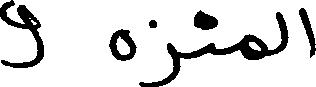X: (0, 0, 42, 72), (143, 15, 177, 86), (109, 24, 135, 65), (301, 3, 315, 62), (244, 29, 267, 64), (277, 7, 287, 58), (208, 10, 214, 59)
